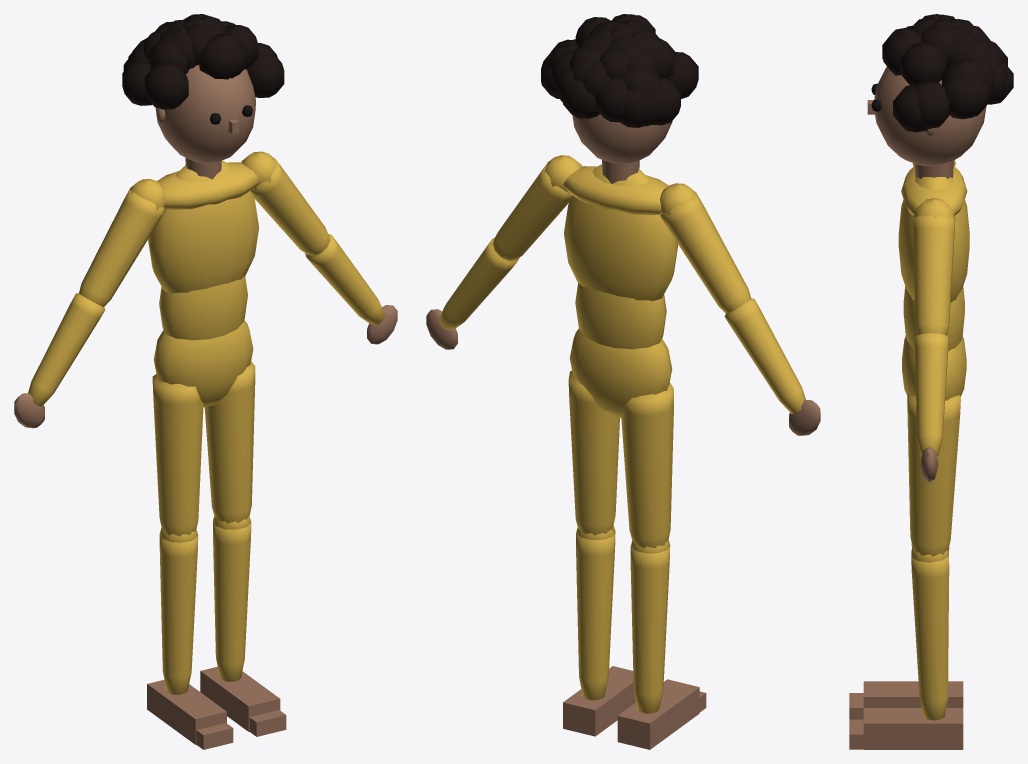
The model's file is Wren.obj.
3 views of the same model, side by side, from view 1: azimuth 30°, elevation 25°; view 2: azimuth 150°, elevation 25°; view 3: azimuth 270°, elevation 25° (orthographic). The views are drawn at different scales.
Parts seen in each view (by area): view 1: Wren; view 2: Wren; view 3: Wren.
Part boxes in pixels (x1,y1,x2,y2): Wren: (14, 14, 397, 749); Wren: (426, 14, 820, 749); Wren: (849, 14, 1013, 749).
Bounding box in the file's own units: 0.7519 × 1.29 × 0.272.
